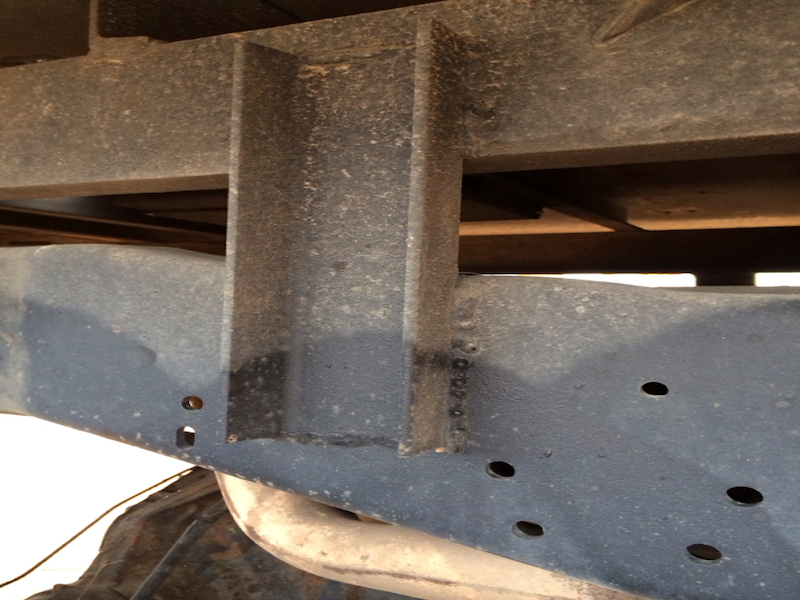hole: (723, 483, 766, 509), (686, 542, 723, 567), (511, 517, 545, 544), (482, 458, 518, 481), (638, 380, 670, 399), (181, 395, 205, 414)
